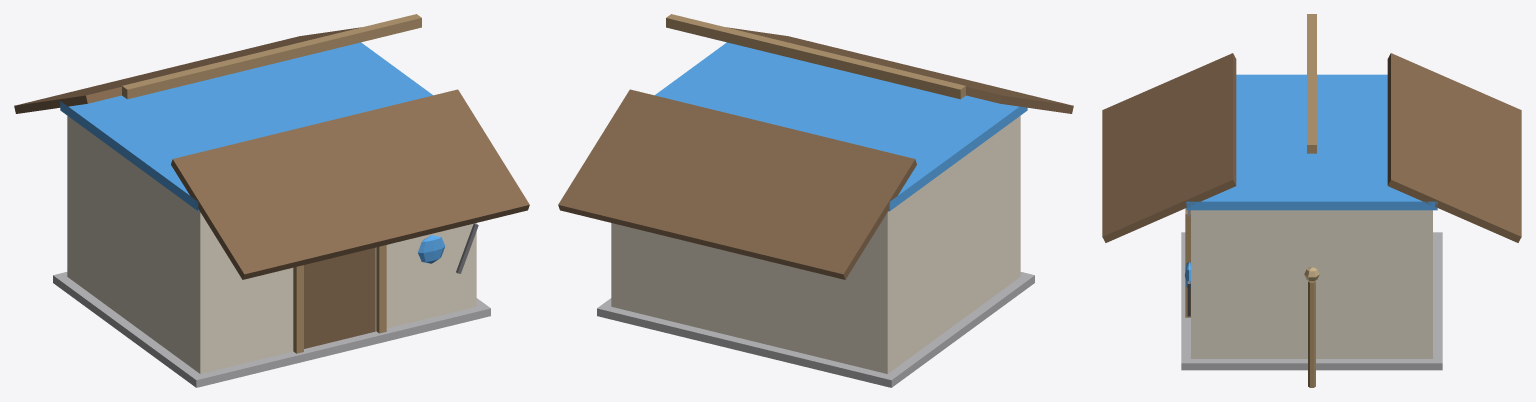
Rendered from barracks_blue.glb.
The picture shows the model from 3 angles, left to right: view 1: azimuth 30°, elevation 25°; view 2: azimuth 150°, elevation 25°; view 3: azimuth 270°, elevation 25°; orthographic projection. The views are drawn at different scales.
Parts seen in each view (by area): view 1: Barracks_blue; view 2: Barracks_blue; view 3: Barracks_blue.
Part boxes in pixels (left/top/right/bottom): Barracks_blue: left=14, top=14, right=529, bottom=387; Barracks_blue: left=558, top=14, right=1073, bottom=387; Barracks_blue: left=1102, top=14, right=1521, bottom=387.
Size of the model in its own units: 3.67 by 2.57 by 4.33.
